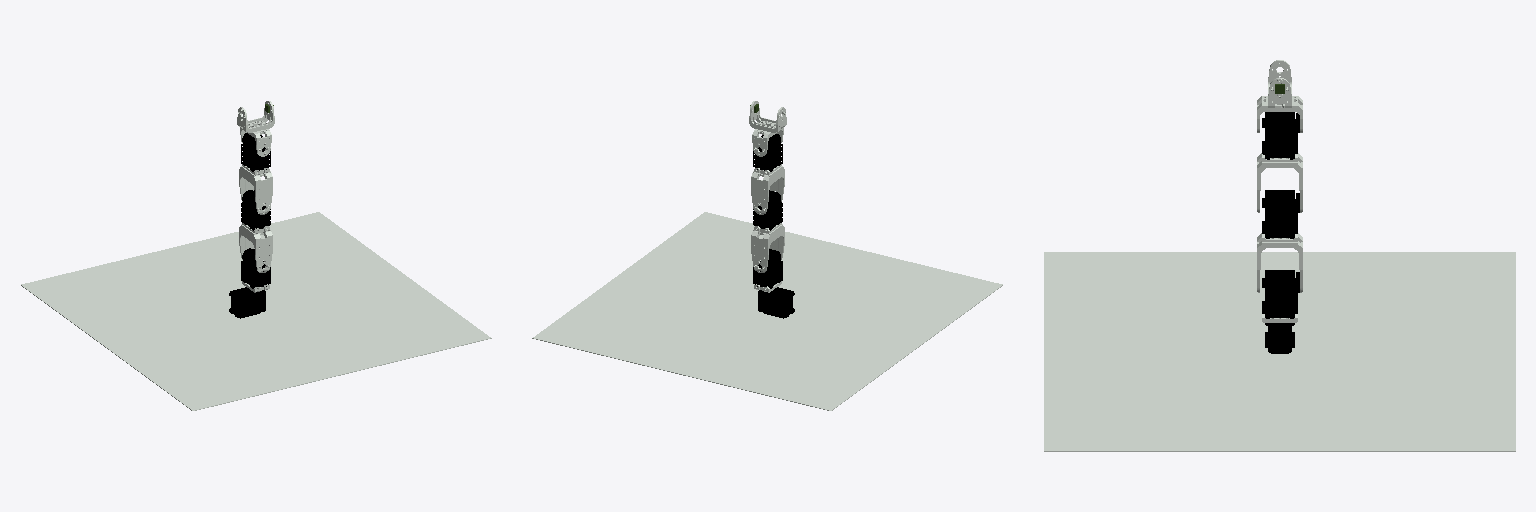
robot.urdf — stackit_robot:
<?xml version="1.0" ?>
<!-- =================================================================================== -->
<!-- |    This document was autogenerated by xacro from my_four_dof_arm.xacro          | -->
<!-- |    EDITING THIS FILE BY HAND IS NOT RECOMMENDED                                 | -->
<!-- =================================================================================== -->
<robot name="stackit_robot" xmlns:xacro="http://www.ros.org/wiki/xacro">
  <material name="white">
    <color rgba="0.87 0.90 0.87 1.0"/>
  </material>
  <material name="black">
    <color rgba="0.0 0.0 0.0 1.0"/>
  </material>
  <material name="green">
    <color rgba="0.22 0.32 0.14 1.0"/>
  </material>
  <link name="base_link"/>
  <link name="arm_base_link">
    <visual>
      <geometry>
        <box size="0.5 0.5 0.001"/>
      </geometry>
      <material name="white"/>
    </visual>
  </link>
  <joint name="arm_base_joint" type="fixed">
    <origin xyz="0 0 0"/>
    <parent link="base_link"/>
    <child link="arm_base_link"/>
  </joint>
  <!-- shoulder pan joint -->
  <joint name="base_pan_servo_joint" type="fixed">
    <origin rpy="0 0 -1.570795" xyz="0 0 0.019"/>
    <parent link="arm_base_link"/>
    <child link="base_pan_servo_link"/>
  </joint>
  <link name="base_pan_servo_link">
    <visual>
      <origin rpy="0 0 0" xyz=" 0 0 0 "/>
      <geometry>
        <mesh filename="package://stackit_robot_description/meshes/AX-12A.stl" scale="0.001 0.001 0.001"/>
      </geometry>
      <material name="black"/>
    </visual>
    <collision>
      <origin rpy="0 0 0" xyz="0.0 -0.0135 0.0"/>
      <geometry>
        <box size="0.032 0.05 0.038"/>
      </geometry>
    </collision>
  </link>
  <joint name="base_pan_joint" type="revolute">
    <origin rpy="1.570795 0 1.570795" xyz="0 0 0.021"/>
    <axis xyz="0 1 0"/>
    <limit effort="30" lower="-1.571" upper="1.571" velocity="1.571"/>
    <parent link="base_pan_servo_link"/>
    <child link="base_pan_link"/>
  </joint>
  <link name="base_pan_link">
    <visual>
      <origin rpy="0 0 0" xyz=" 0 0 0 "/>
      <geometry>
        <mesh filename="package://stackit_robot_description/meshes/FP04-F3.stl" scale="0.001 0.001 0.001"/>
      </geometry>
      <material name="white"/>
    </visual>
    <collision>
      <origin rpy="0 0 0" xyz="0.0 0.0045 0"/>
      <geometry>
        <box size="0.025 0.009 0.0382"/>
      </geometry>
    </collision>
  </link>
  <!-- shoulder lift joint -->
  <joint name="base_lift_servo_joint" type="fixed">
    <origin rpy="0 3.14159 0" xyz="0 0.0415 0"/>
    <parent link="base_pan_link"/>
    <child link="base_lift_servo_link"/>
  </joint>
  <link name="base_lift_servo_link">
    <visual>
      <origin rpy="0 0 0" xyz=" 0 0 0 "/>
      <geometry>
        <mesh filename="package://stackit_robot_description/meshes/AX-12A.stl" scale="0.001 0.001 0.001"/>
      </geometry>
      <material name="black"/>
    </visual>
    <collision>
      <origin rpy="0 0 0" xyz="0.0 -0.0135 0.0"/>
      <geometry>
        <box size="0.032 0.05 0.038"/>
      </geometry>
    </collision>
  </link>
  <joint name="base_lift_joint" type="revolute">
    <origin rpy="-1.570795 -1.570795 0" xyz="0 0 0"/>
    <axis xyz="1 0 0"/>
    <limit effort="30" lower="-2.617" upper="2.617" velocity="1.571"/>
    <parent link="base_lift_servo_link"/>
    <child link="base_lift_link"/>
  </joint>
  <link name="base_lift_link">
    <visual>
      <origin rpy="0 0 0" xyz=" 0 0 0 "/>
      <geometry>
        <mesh filename="package://stackit_robot_description/meshes/FP04-F4.stl" scale="0.001 0.001 0.001"/>
      </geometry>
      <material name="white"/>
    </visual>
    <collision>
      <origin rpy="0 0 0" xyz="0.0 0.0 0.0205"/>
      <geometry>
        <box size="0.048 0.029 0.063"/>
      </geometry>
    </collision>
  </link>
  <joint name="arm_shoulder_F3_0_joint" type="fixed">
    <origin rpy="1.570795 0 -1.570795" xyz="0 0 0.052"/>
    <parent link="base_lift_link"/>
    <child link="arm_shoulder_F3_0_link"/>
  </joint>
  <link name="arm_shoulder_F3_0_link">
    <visual>
      <origin rpy="0 0 0" xyz=" 0 0 0 "/>
      <geometry>
        <mesh filename="package://stackit_robot_description/meshes/FP04-F3.stl" scale="0.001 0.001 0.001"/>
      </geometry>
      <material name="white"/>
    </visual>
    <collision>
      <origin rpy="0 0 0" xyz="0.0 0.0045 0"/>
      <geometry>
        <box size="0.025 0.009 0.0382"/>
      </geometry>
    </collision>
  </link>
  <!-- elbow joint -->
  <joint name="elbow_flex_servo_joint" type="fixed">
    <origin rpy="0 3.14159 0" xyz="0 0.0415 0"/>
    <parent link="arm_shoulder_F3_0_link"/>
    <child link="elbow_flex_servo_link"/>
  </joint>
  <link name="elbow_flex_servo_link">
    <visual>
      <origin rpy="0 0 0" xyz=" 0 0 0 "/>
      <geometry>
        <mesh filename="package://stackit_robot_description/meshes/AX-12A.stl" scale="0.001 0.001 0.001"/>
      </geometry>
      <material name="black"/>
    </visual>
    <collision>
      <origin rpy="0 0 0" xyz="0.0 -0.0135 0.0"/>
      <geometry>
        <box size="0.032 0.05 0.038"/>
      </geometry>
    </collision>
  </link>
  <joint name="elbow_flex_joint" type="revolute">
    <origin rpy="-1.570795 -1.570795 0" xyz="0 0 0"/>
    <axis xyz="1 0 0"/>
    <limit effort="30" lower="0.0" upper="2.617" velocity="1.571"/>
    <parent link="elbow_flex_servo_link"/>
    <child link="elbow_flex_link"/>
  </joint>
  <link name="elbow_flex_link">
    <visual>
      <origin rpy="0 0 0" xyz=" 0 0 0 "/>
      <geometry>
        <mesh filename="package://stackit_robot_description/meshes/FP04-F4.stl" scale="0.001 0.001 0.001"/>
      </geometry>
      <material name="white"/>
    </visual>
    <collision>
      <origin rpy="0 0 0" xyz="0.0 0.0 0.0205"/>
      <geometry>
        <box size="0.048 0.029 0.063"/>
      </geometry>
    </collision>
  </link>
  <joint name="elbow_F3_0_joint" type="fixed">
    <origin rpy="1.570795 0 -1.570795" xyz="0 0 0.052"/>
    <parent link="elbow_flex_link"/>
    <child link="elbow_F3_0_link"/>
  </joint>
  <link name="elbow_F3_0_link">
    <visual>
      <origin rpy="0 0 0" xyz=" 0 0 0 "/>
      <geometry>
        <mesh filename="package://stackit_robot_description/meshes/FP04-F3.stl" scale="0.001 0.001 0.001"/>
      </geometry>
      <material name="white"/>
    </visual>
    <collision>
      <origin rpy="0 0 0" xyz="0.0 0.0045 0"/>
      <geometry>
        <box size="0.025 0.009 0.0382"/>
      </geometry>
    </collision>
  </link>
  <!-- wrist joint -->
  <joint name="wrist_flex_servo_joint" type="fixed">
    <origin rpy="0 3.14159 0" xyz="0 0.0415 0"/>
    <parent link="elbow_F3_0_link"/>
    <child link="wrist_flex_servo_link"/>
  </joint>
  <link name="wrist_flex_servo_link">
    <visual>
      <origin rpy="0 0 0" xyz=" 0 0 0 "/>
      <geometry>
        <mesh filename="package://stackit_robot_description/meshes/AX-12A.stl" scale="0.001 0.001 0.001"/>
      </geometry>
      <material name="black"/>
    </visual>
    <collision>
      <origin rpy="0 0 0" xyz="0.0 -0.0135 0.0"/>
      <geometry>
        <box size="0.032 0.05 0.038"/>
      </geometry>
    </collision>
  </link>
  <joint name="wrist_flex_joint" type="revolute">
    <origin rpy="-1.570795 -1.570795 0" xyz="0 0 0"/>
    <axis xyz="1 0 0"/>
    <limit effort="30" lower="-1.745" upper="1.745" velocity="1.571"/>
    <parent link="wrist_flex_servo_link"/>
    <child link="wrist_flex_link"/>
  </joint>
  <link name="wrist_flex_link">
    <visual>
      <origin rpy="0 0 0" xyz=" 0 0 0 "/>
      <geometry>
        <mesh filename="package://stackit_robot_description/meshes/FP04-F2.stl" scale="0.001 0.001 0.001"/>
      </geometry>
      <material name="white"/>
    </visual>
    <collision>
      <origin rpy="0 0 0" xyz="0.0 0.0 0.00775"/>
      <geometry>
        <box size="0.0485 0.025 0.0375"/>
      </geometry>
    </collision>
  </link>
  <joint name="wrist_F2_0_joint" type="fixed">
    <origin rpy="0 3.14159 1.570795" xyz="0 0 0.052"/>
    <parent link="wrist_flex_link"/>
    <child link="wrist_F2_0_link"/>
  </joint>
  <link name="wrist_F2_0_link">
    <visual>
      <origin rpy="0 0 0" xyz=" 0 0 0 "/>
      <geometry>
        <mesh filename="package://stackit_robot_description/meshes/FP04-F2.stl" scale="0.001 0.001 0.001"/>
      </geometry>
      <material name="white"/>
    </visual>
    <collision>
      <origin rpy="0 0 0" xyz="0.0 0.0 0.00775"/>
      <geometry>
        <box size="0.0485 0.025 0.0375"/>
      </geometry>
    </collision>
  </link>
  <!-- dummy joint -->
  <link name="dummy_a_link"/>
  <joint name="dummy_a_joint" type="revolute">
    <parent link="wrist_F2_0_link"/>
    <child link="dummy_a_link"/>
    <origin rpy="3.14159 0 0" xyz="0.0225 0 0"/>
    <axis xyz="1 0 0"/>
    <limit effort="30" lower="-1.571" upper="1.571" velocity="1.571"/>
  </joint>
  <link name="dummy_b_link">
    <visual>
      <geometry>
        <box size="0.01 0.01 0.01"/>
      </geometry>
      <material name="green"/>
    </visual>
  </link>
  <joint name="dummy_b_joint" type="fixed">
    <parent link="dummy_a_link"/>
    <child link="dummy_b_link"/>
    <origin rpy="0 0 0" xyz="0 0 0"/>
    <axis xyz="0 0 0"/>
  </joint>
</robot>

--- What the picture shows (computed from the rendered views, not written in the file) ---
Views: 3 orthographic renders of the robot side by side, from view 1: azimuth 30°, elevation 25°; view 2: azimuth 150°, elevation 25°; view 3: azimuth 270°, elevation 25°.
Model stackit_robot with 15 links and 14 joints (5 revolute, 9 fixed), rooted at base_link, posed every joint at zero.
Visible links, largest first — view 1: arm_base_link, elbow_flex_link, base_lift_link, base_pan_servo_link, base_lift_servo_link, elbow_flex_servo_link, wrist_flex_servo_link, wrist_F2_0_link; view 2: arm_base_link, elbow_flex_link, base_lift_link, base_pan_servo_link, base_lift_servo_link, elbow_flex_servo_link, wrist_flex_servo_link, wrist_F2_0_link; view 3: arm_base_link, base_lift_servo_link, elbow_flex_servo_link, wrist_flex_servo_link, wrist_F2_0_link, base_pan_servo_link, elbow_flex_link, base_lift_link, wrist_flex_link.
Boxes of the visible links, bbox=[...] form: arm_base_link: bbox=[21, 212, 491, 410]; elbow_flex_link: bbox=[239, 166, 272, 214]; base_lift_link: bbox=[239, 224, 272, 272]; base_pan_servo_link: bbox=[229, 287, 265, 318]; base_lift_servo_link: bbox=[241, 248, 270, 288]; elbow_flex_servo_link: bbox=[241, 190, 270, 230]; wrist_flex_servo_link: bbox=[241, 133, 270, 171]; wrist_F2_0_link: bbox=[237, 101, 274, 132]; arm_base_link: bbox=[532, 212, 1002, 410]; elbow_flex_link: bbox=[751, 166, 784, 214]; base_lift_link: bbox=[751, 224, 784, 272]; base_pan_servo_link: bbox=[758, 287, 794, 318]; base_lift_servo_link: bbox=[753, 249, 782, 288]; elbow_flex_servo_link: bbox=[753, 190, 782, 230]; wrist_flex_servo_link: bbox=[753, 134, 782, 171]; wrist_F2_0_link: bbox=[749, 101, 786, 132]; arm_base_link: bbox=[1044, 252, 1515, 451]; base_lift_servo_link: bbox=[1262, 270, 1299, 318]; elbow_flex_servo_link: bbox=[1262, 190, 1299, 238]; wrist_flex_servo_link: bbox=[1262, 112, 1299, 159]; wrist_F2_0_link: bbox=[1268, 60, 1291, 107]; base_pan_servo_link: bbox=[1265, 323, 1294, 353]; elbow_flex_link: bbox=[1257, 153, 1302, 212]; base_lift_link: bbox=[1257, 233, 1302, 292]; wrist_flex_link: bbox=[1257, 96, 1302, 132].
Size in the robot's own frame: 0.5 by 0.5 by 0.332 metres.
11 mesh visuals loaded from 4 distinct referenced files (4 binary STL).